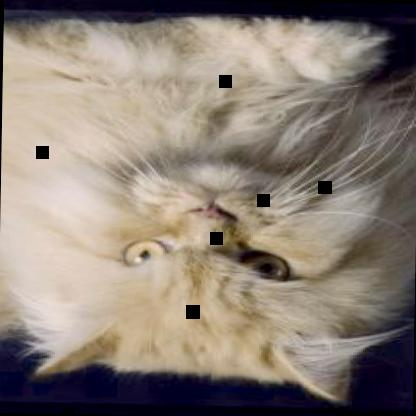cat: (0, 7, 415, 403)
